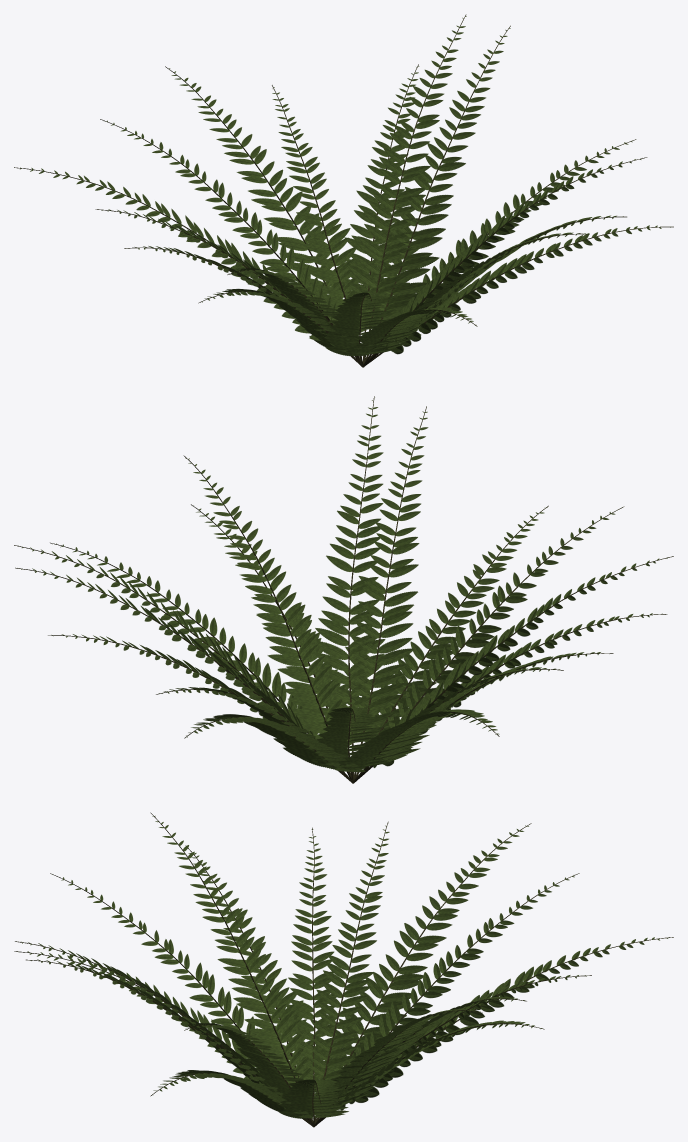
File: lady_fern_v01.glb
3 renders of one model, top to bottom at view 1: azimuth 30°, elevation 25°; view 2: azimuth 150°, elevation 25°; view 3: azimuth 270°, elevation 25°, orthographic. The views are drawn at different scales.
Visible parts, largest first — view 1: lady_fern_v01; view 2: lady_fern_v01; view 3: lady_fern_v01.
Boxes of the visible parts, x1,y1,x2,y2 form: lady_fern_v01: (14, 14, 673, 367); lady_fern_v01: (14, 396, 673, 783); lady_fern_v01: (14, 812, 673, 1127).
Bounding box in the file's own units: 1.11 × 0.4621 × 1.21.
2 materials, 2 textured.
